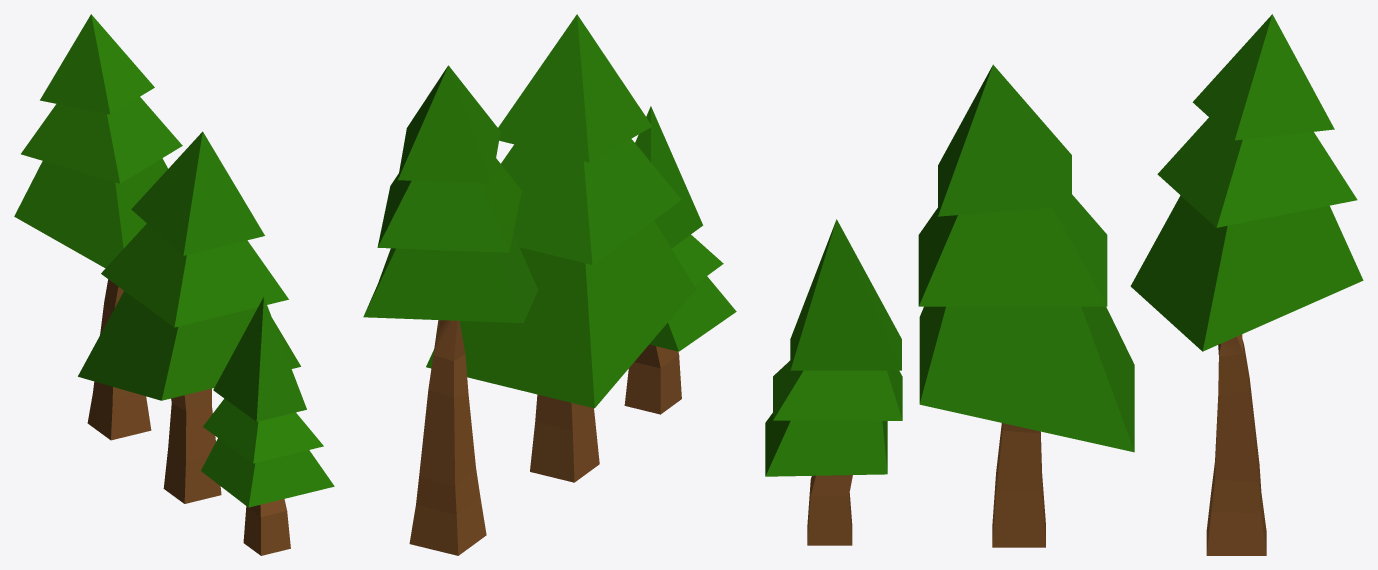
Rendered from Trees_HQ.fbx.
The picture shows the model from 3 angles, left to right: view 1: azimuth 30°, elevation 25°; view 2: azimuth 150°, elevation 25°; view 3: azimuth 270°, elevation 25°; orthographic projection. The views are drawn at different scales.
Visible parts, largest first — view 1: tree mid.001, tree big.001, tree smol.001; view 2: tree mid.001, tree big.001, tree smol.001; view 3: tree mid.001, tree big.001, tree smol.001.
Part boxes in pixels (<box>): tree mid.001: <box>78,131,300,503</box>; tree big.001: <box>14,14,182,440</box>; tree smol.001: <box>201,297,334,555</box>; tree mid.001: <box>426,14,695,482</box>; tree big.001: <box>363,65,537,555</box>; tree smol.001: <box>624,106,736,414</box>; tree mid.001: <box>918,64,1134,547</box>; tree big.001: <box>1130,14,1363,555</box>; tree smol.001: <box>765,219,902,545</box>.
Bounding box in the file's own units: 2.19 × 5.7 × 5.47.
Materials: 1 (1 with a texture image).
